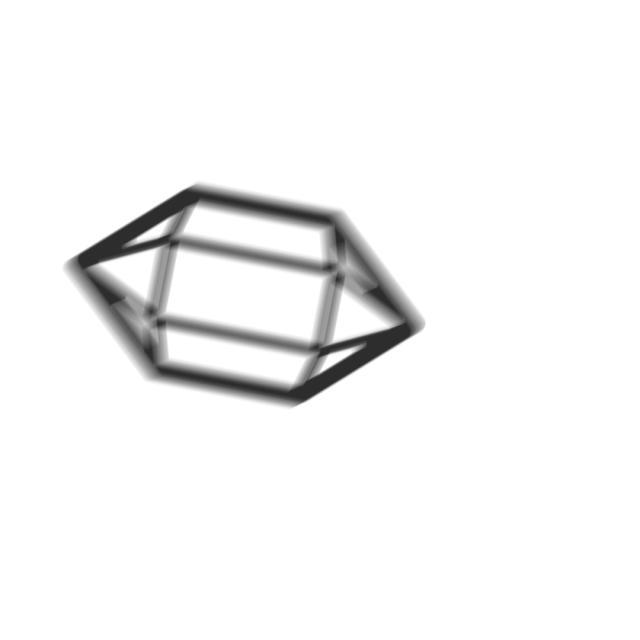crystal: (56, 176, 441, 418)
